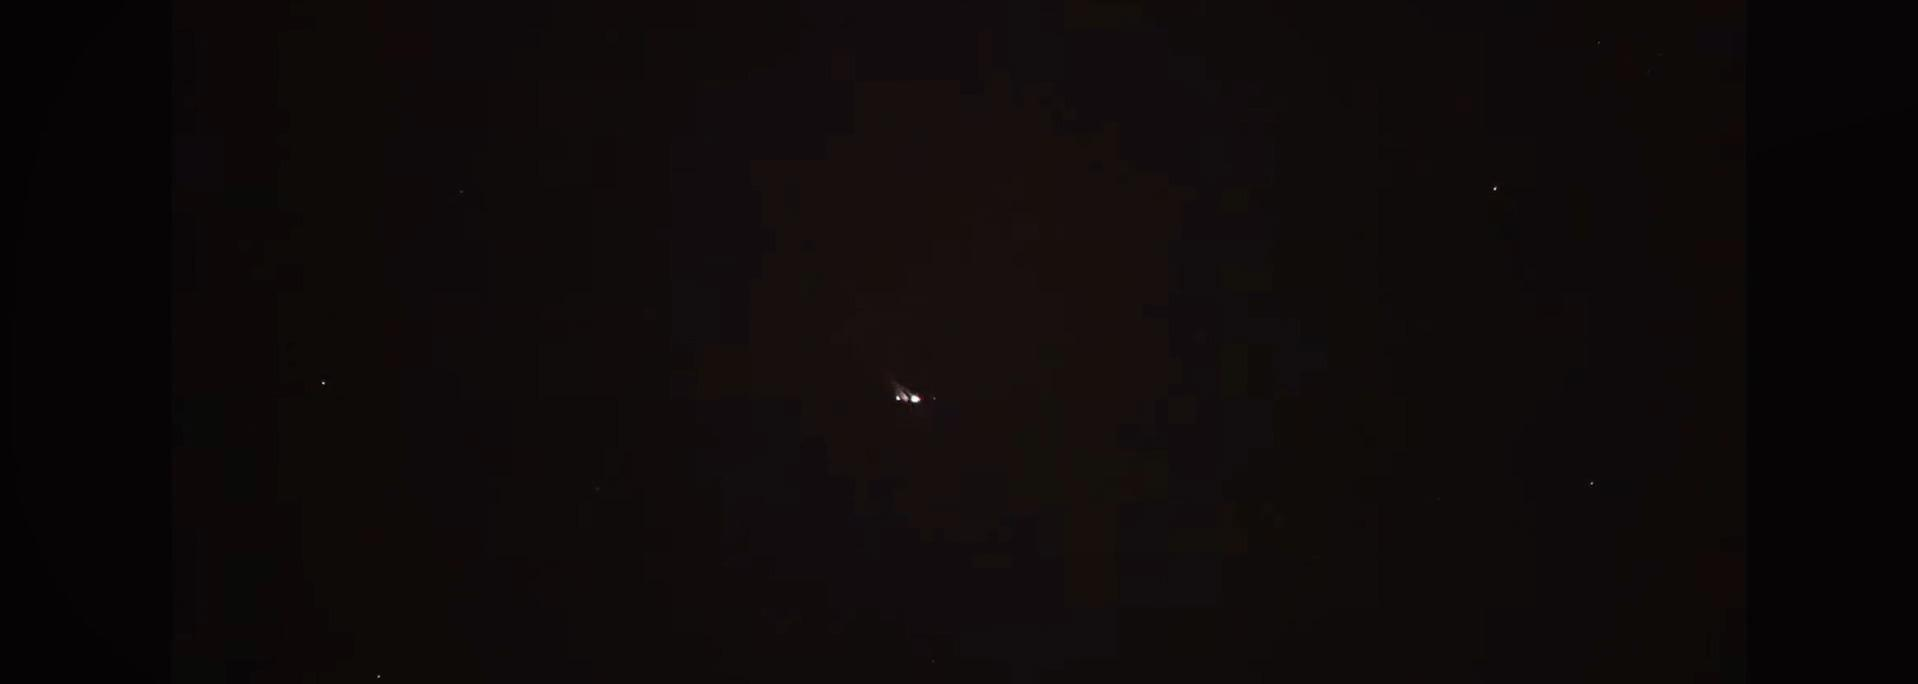Plane: (845, 370, 960, 414)
